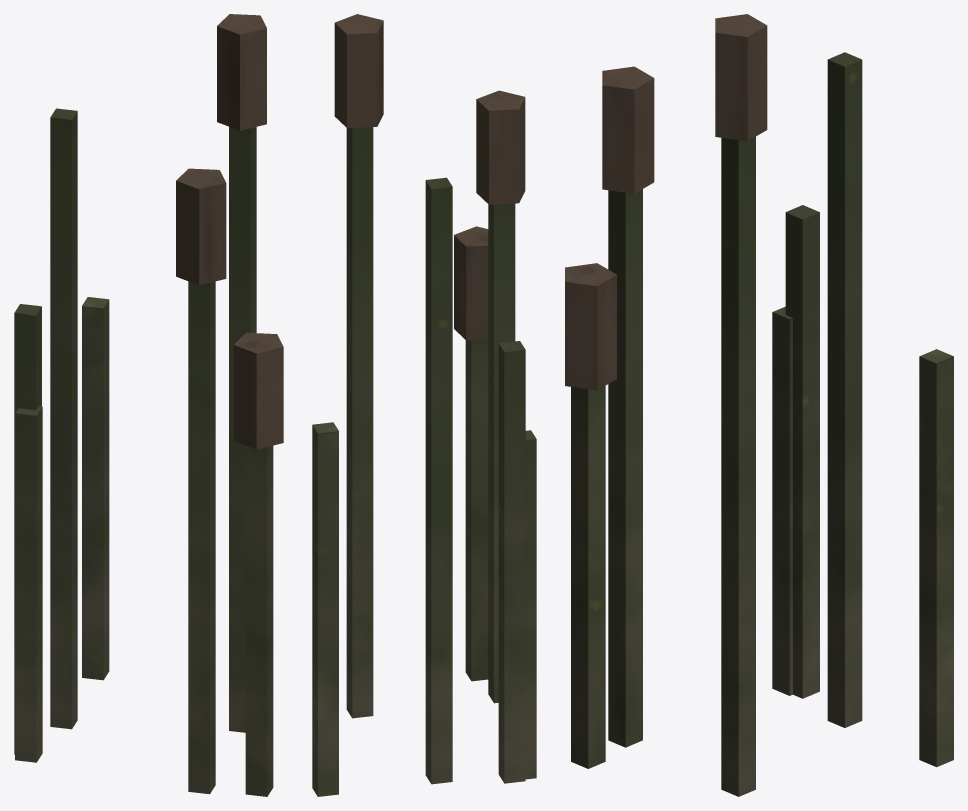
File: junco.glb
3 renders of one model, left to right at view 1: azimuth 30°, elevation 25°; view 2: azimuth 150°, elevation 25°; view 3: azimuth 270°, elevation 25°, orthographic. The views are drawn at different scales.
Parts seen in each view (by area): view 1: junco; view 2: junco; view 3: junco.
Boxes of the visible parts, x1,y1,x2,y2 form: junco: [14, 14, 283, 796]; junco: [312, 14, 536, 796]; junco: [565, 14, 953, 796].
Bounding box in the file's own units: 0.2464 × 0.7329 × 0.338.
Materials: 1 (1 with a texture image).
